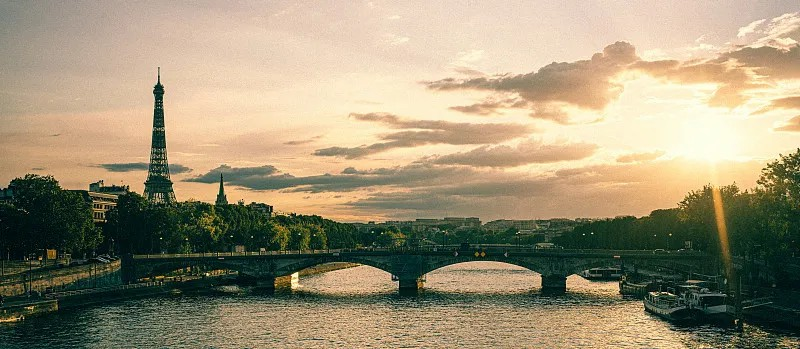Eiffel: (140, 67, 177, 202)
